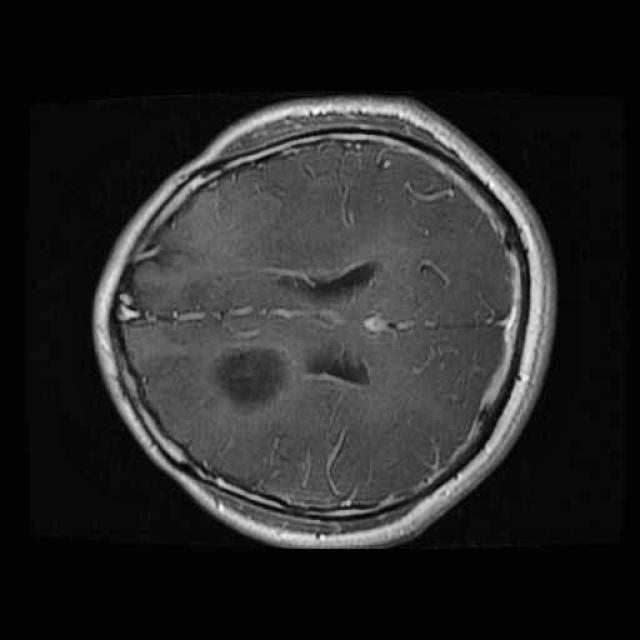Non-Tumor: (208, 335, 295, 420)
